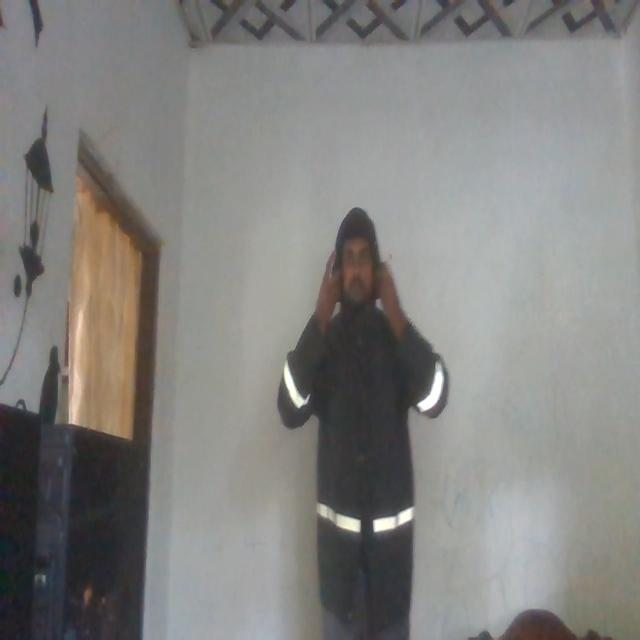Jacket_Wearer: (272, 289, 456, 607)
Person: (276, 201, 450, 640)
